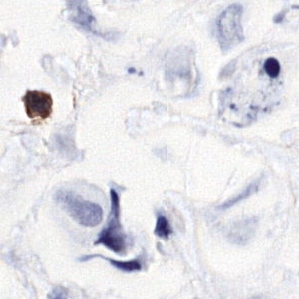Lymphocyte: (21, 90, 56, 121)
